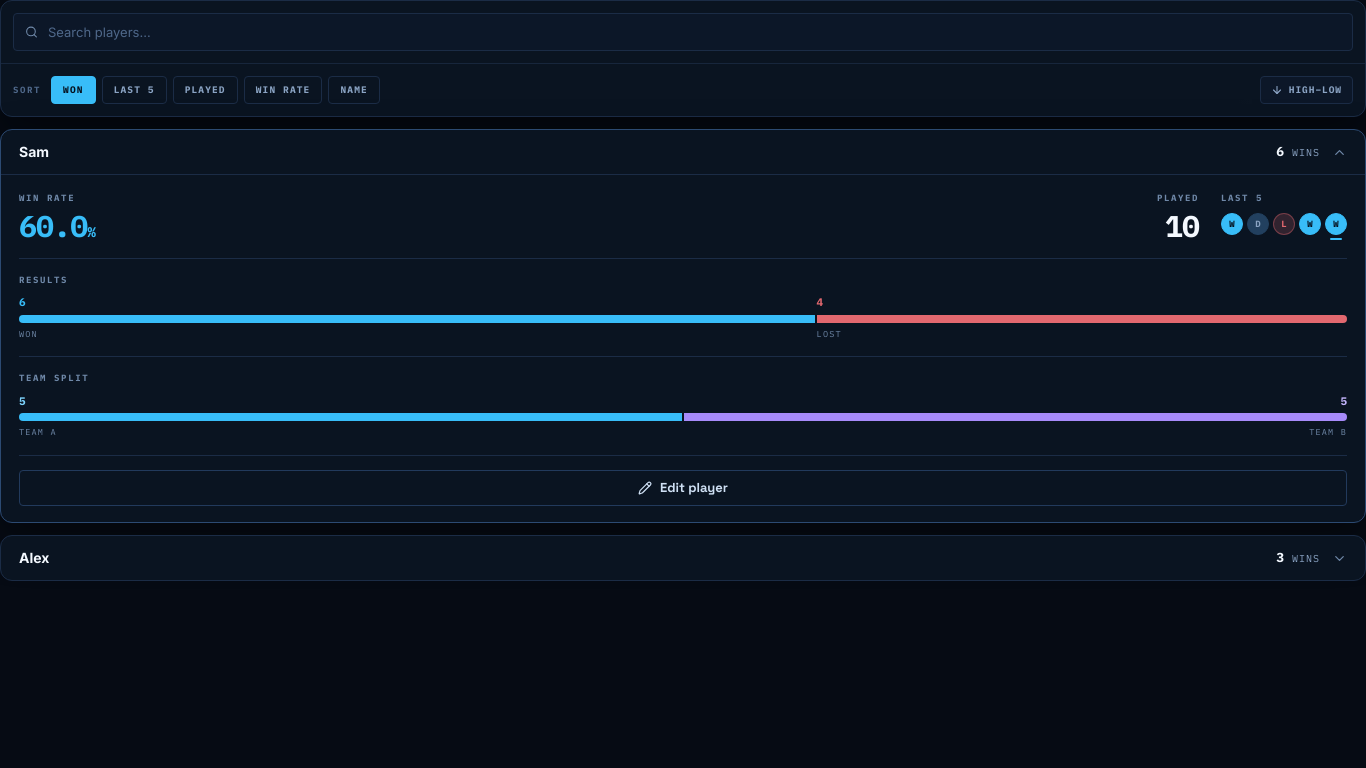
Test: PublicPlayerList editing › opens the modal for the open card and loads the roster once
Click the button "Edit player" at (683, 488), box [19, 470, 1347, 506]
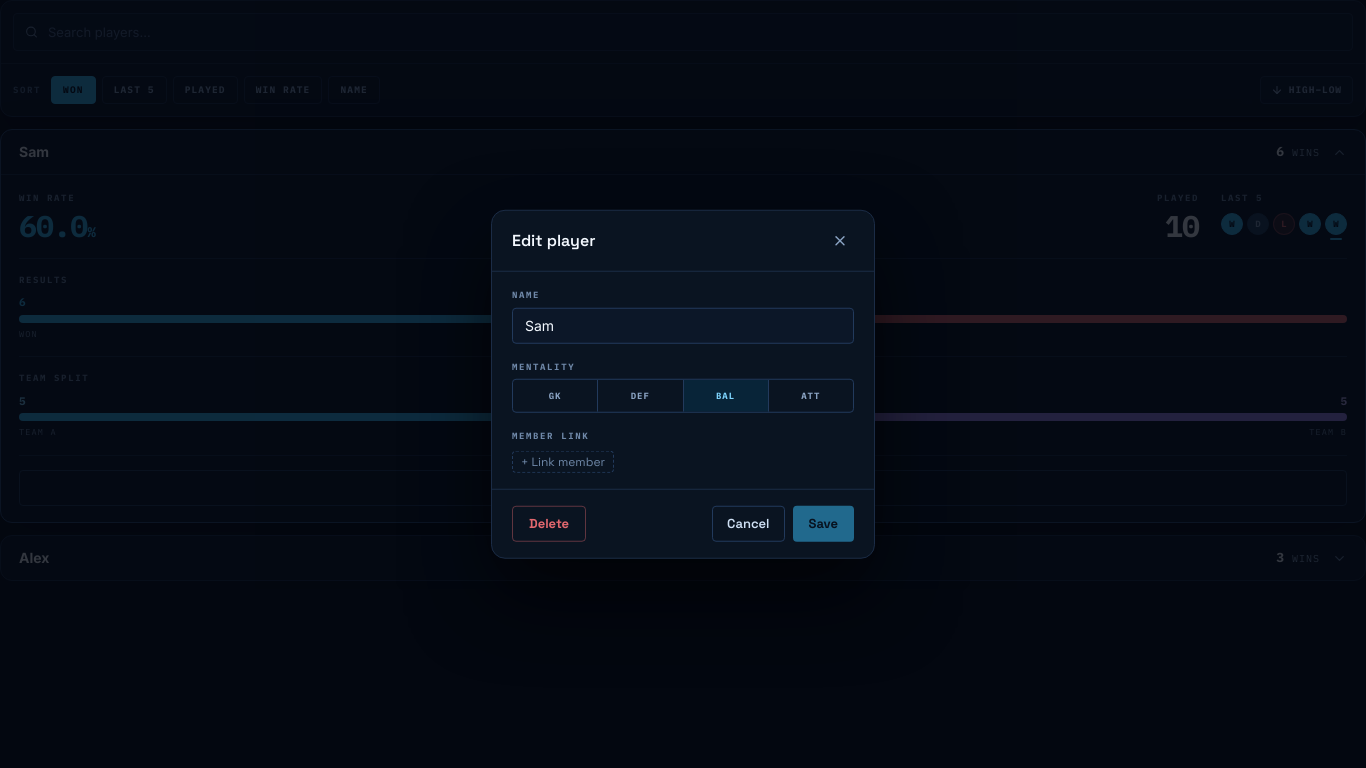
expect the field labelled "Name" holds "Sam": met, box [512, 307, 854, 343]
Click the button "Cancel" at (748, 523), box [712, 505, 784, 541]
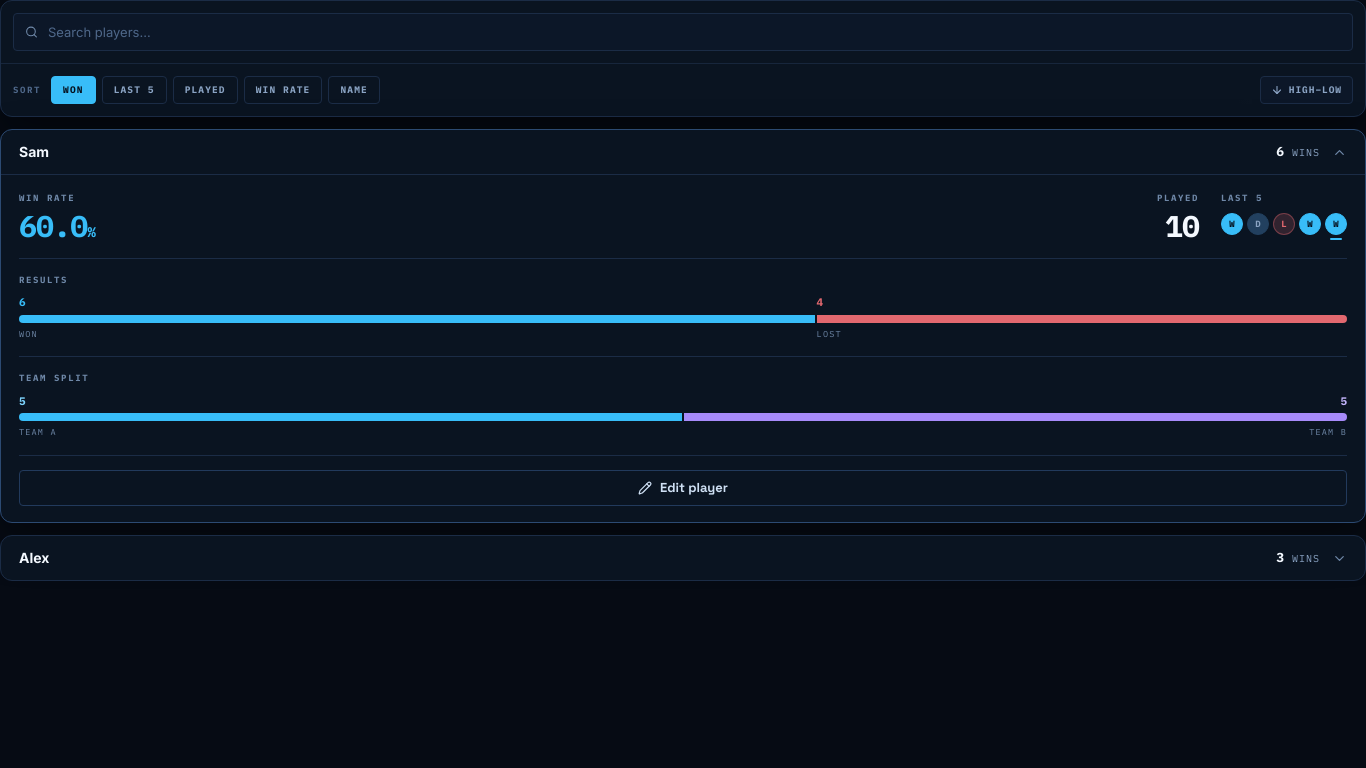
expect the dialog is gone: met
Click the button "Edit player" at (683, 488), box [19, 470, 1347, 506]
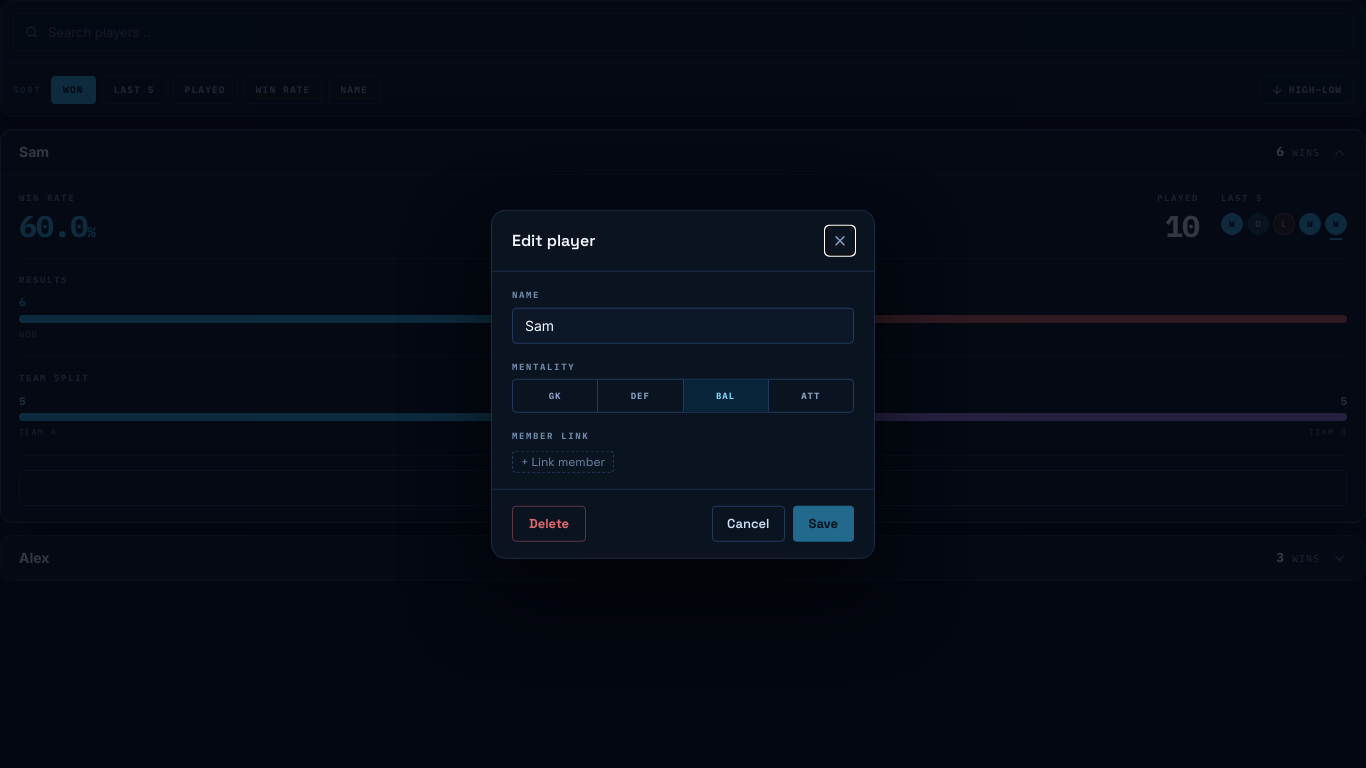
expect the field labelled "Name" holds "Sam": met, box [512, 307, 854, 343]
